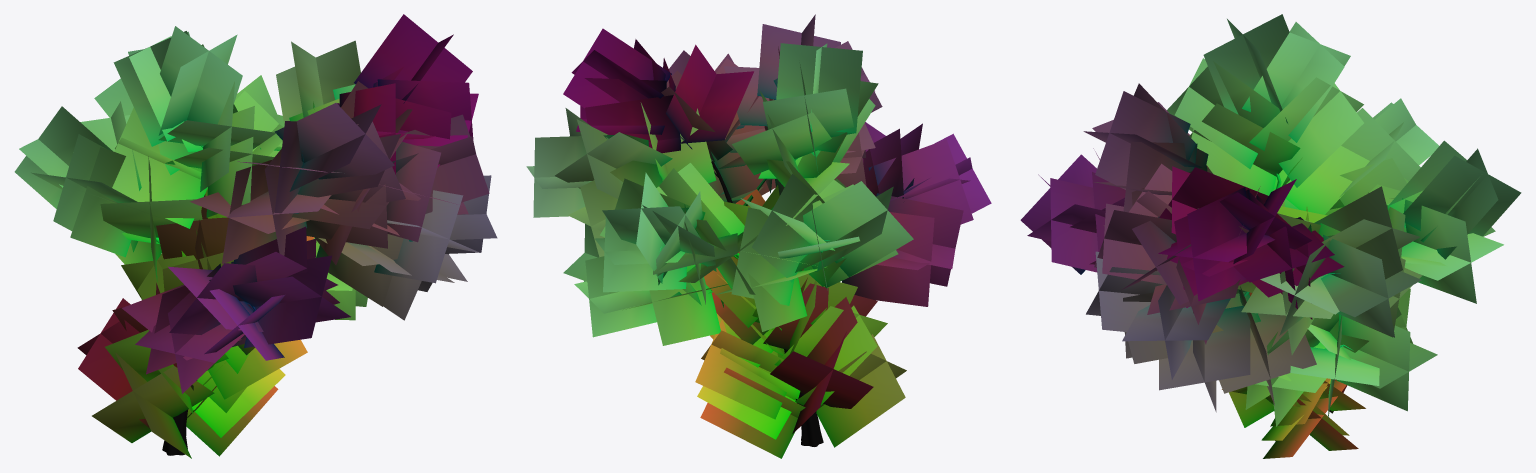
The model's file is URP_P3_Tree_11_LOD_0.fbx.
3 views of the same model, side by side, from view 1: azimuth 30°, elevation 25°; view 2: azimuth 150°, elevation 25°; view 3: azimuth 270°, elevation 25° (orthographic). The views are drawn at different scales.
Visible parts, largest first — view 1: Tree_11_LOD_0; view 2: Tree_11_LOD_0; view 3: Tree_11_LOD_0.
Boxes of the visible parts, bbox=[...] form: Tree_11_LOD_0: bbox=[14, 14, 497, 458]; Tree_11_LOD_0: bbox=[526, 14, 991, 458]; Tree_11_LOD_0: bbox=[1020, 14, 1521, 458].
Bounding box in the file's own units: 516 × 538 × 568.
